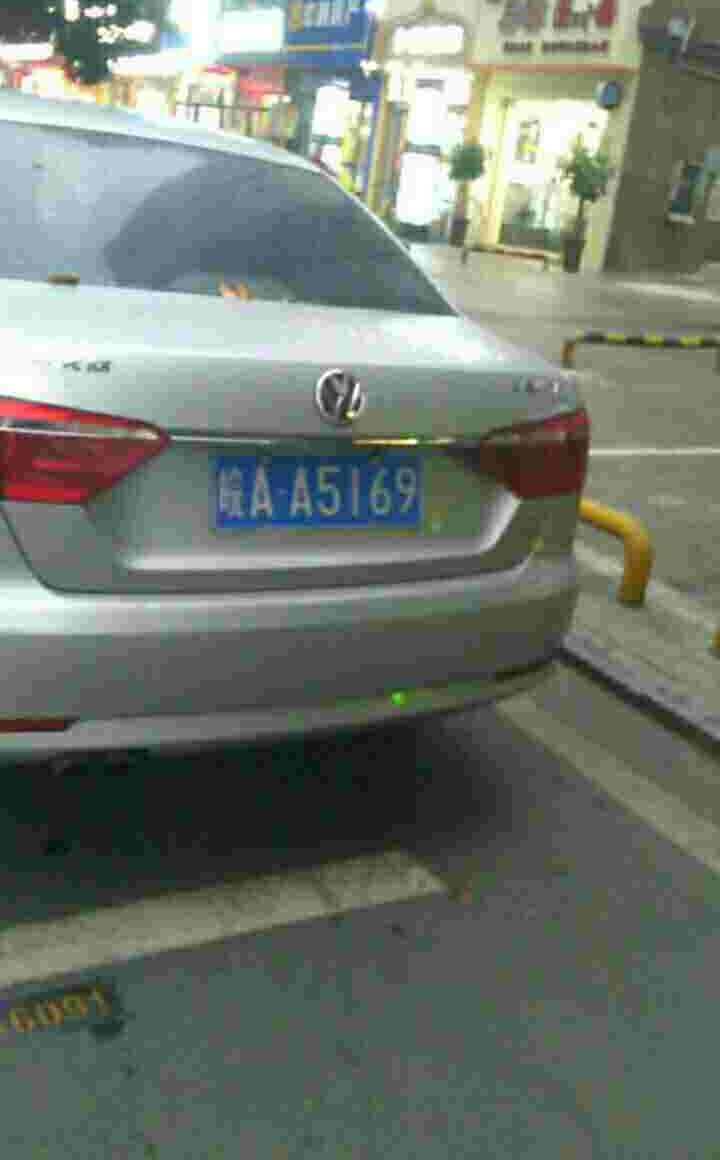plate: (220, 449, 430, 533)
